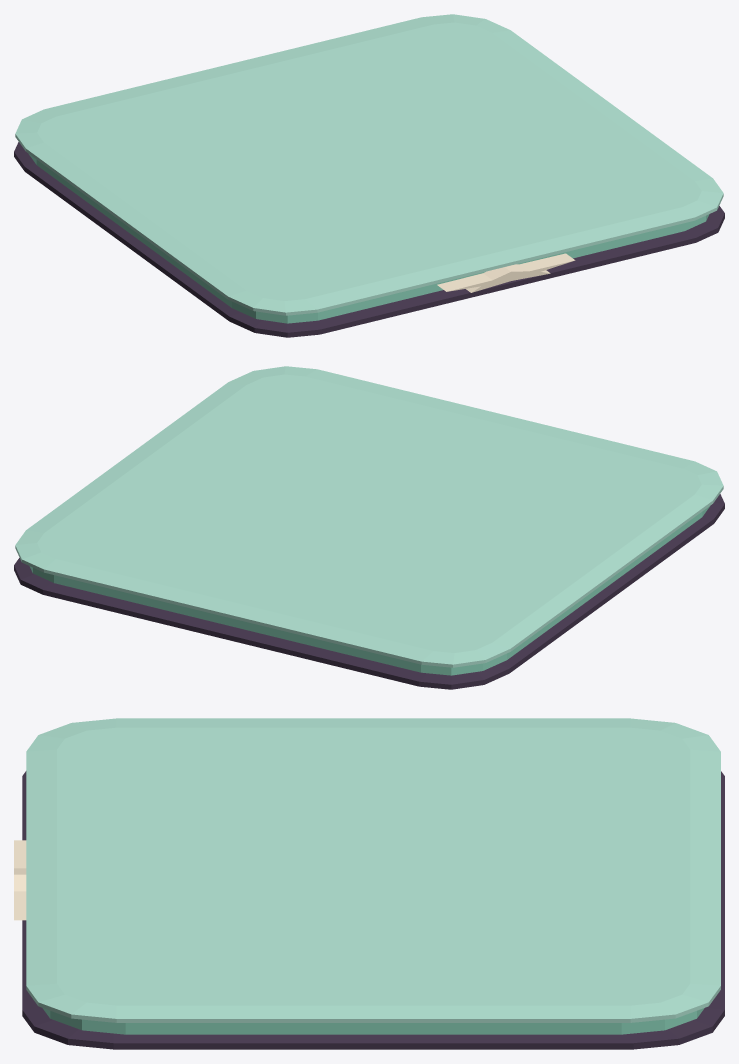
Rendered from route_marker.glb.
The picture shows the model from 3 angles, top to bottom: view 1: azimuth 30°, elevation 25°; view 2: azimuth 150°, elevation 25°; view 3: azimuth 270°, elevation 25°; orthographic projection. The views are drawn at different scales.
Parts seen in each view (by area): view 1: model; view 2: model; view 3: model.
Boxes of the visible parts, x1,y1,x2,y2 form: model: (14, 14, 724, 337); model: (14, 366, 724, 689); model: (14, 718, 724, 1049).
Bounding box in the file's own units: 1.8 × 0.1 × 1.8.
